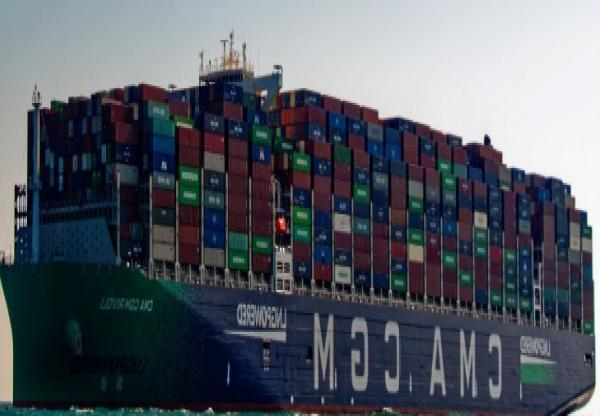Container Ship: (1, 28, 595, 413)
